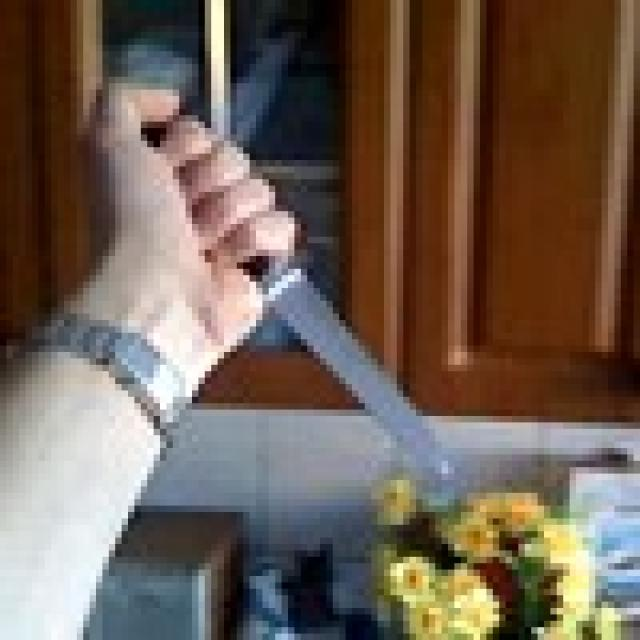Knife: (134, 115, 448, 480)
